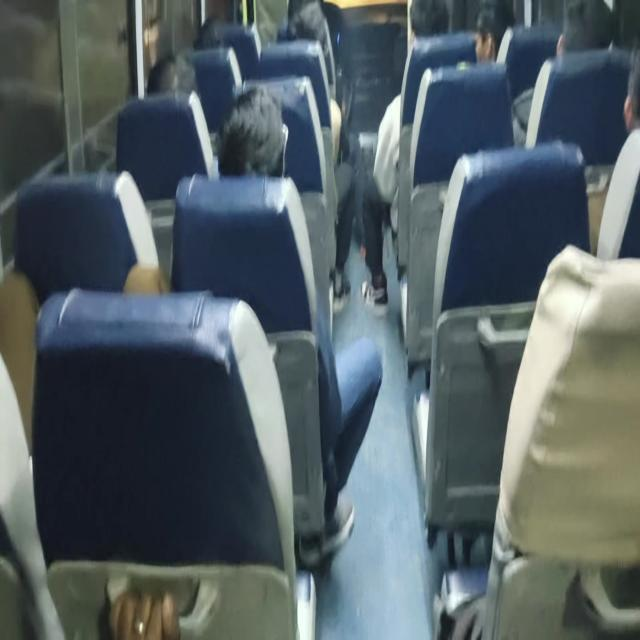person: (215, 84, 383, 562), (360, 0, 449, 309), (286, 0, 358, 312), (523, 0, 619, 150), (596, 50, 639, 260), (216, 84, 288, 178), (107, 586, 181, 638), (474, 1, 513, 63), (146, 52, 199, 96)
